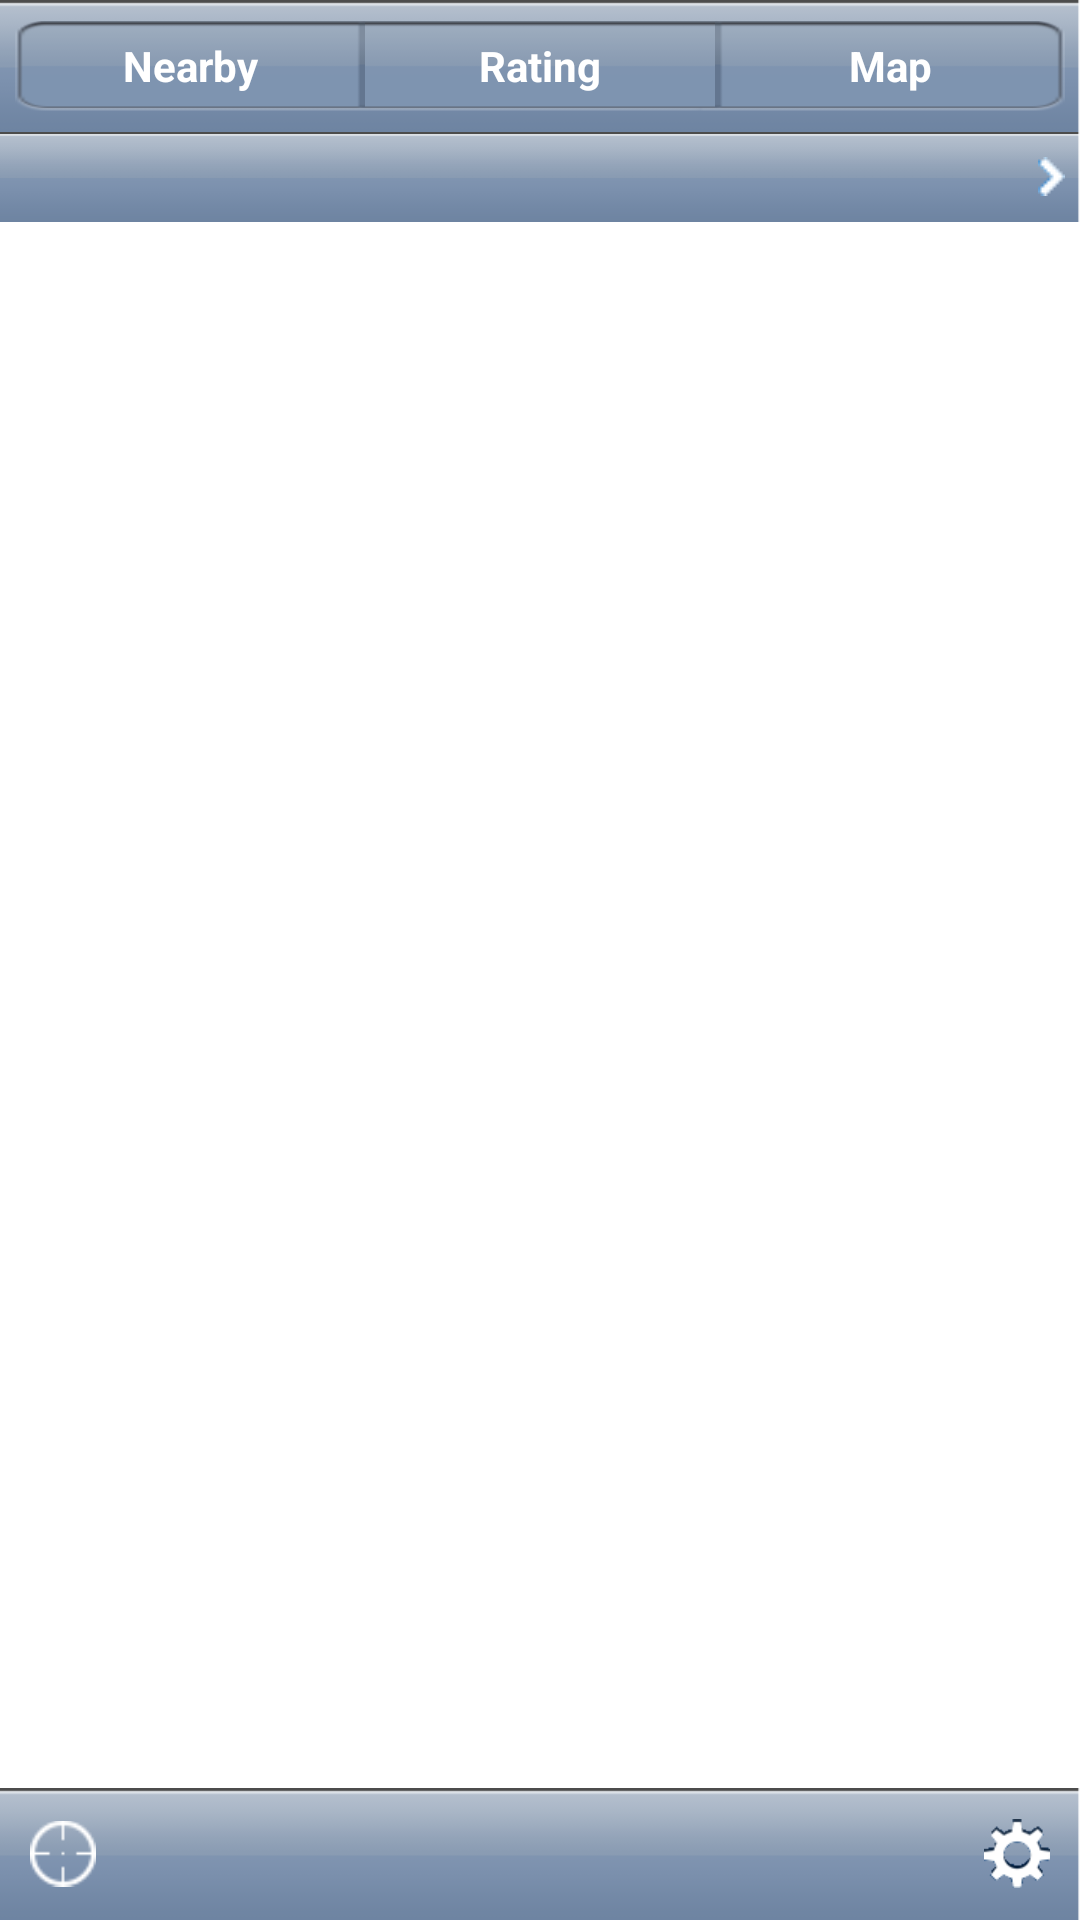

Icon click points for this 1080 x 1920 phone screenshot, format point (x, y):
reticle: point (63, 1853)
settings: point (1017, 1853)
whitearrow: point (1051, 176)
